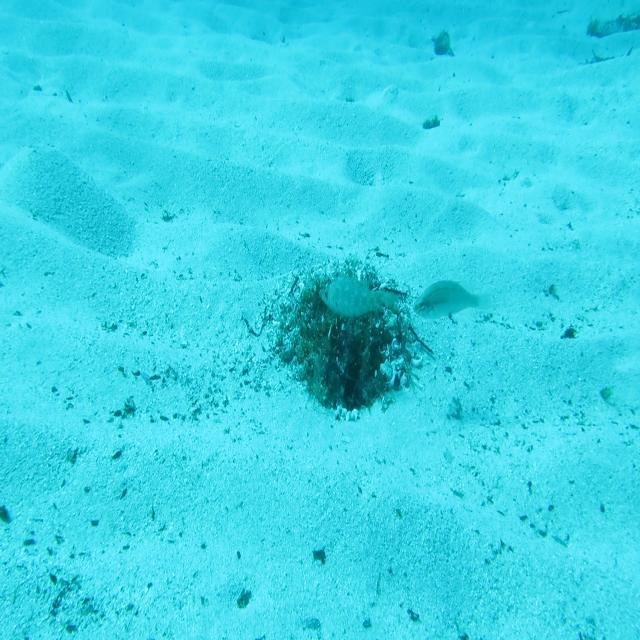INSF: (316, 271, 392, 321)
female: (413, 278, 494, 323)
nest: (258, 251, 424, 426)
vegetation: (585, 6, 640, 44), (432, 25, 456, 58), (422, 111, 441, 133), (312, 545, 327, 566)
